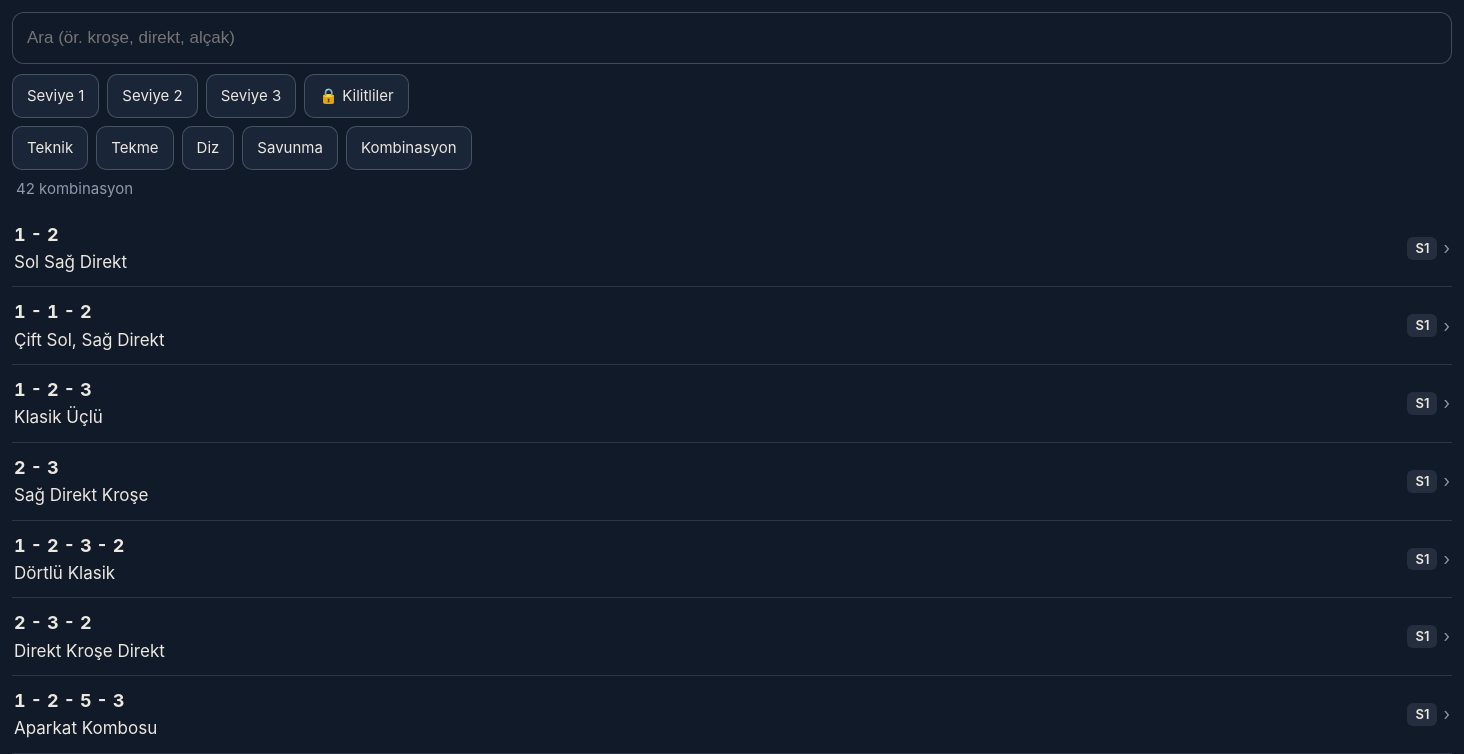
Test case: Kombo listesi ve detay › arama kutusu listeyi daraltır
Step 1. Type "teep" into the search field → (732, 38), box x1=12 y1=12 x2=1452 y2=64
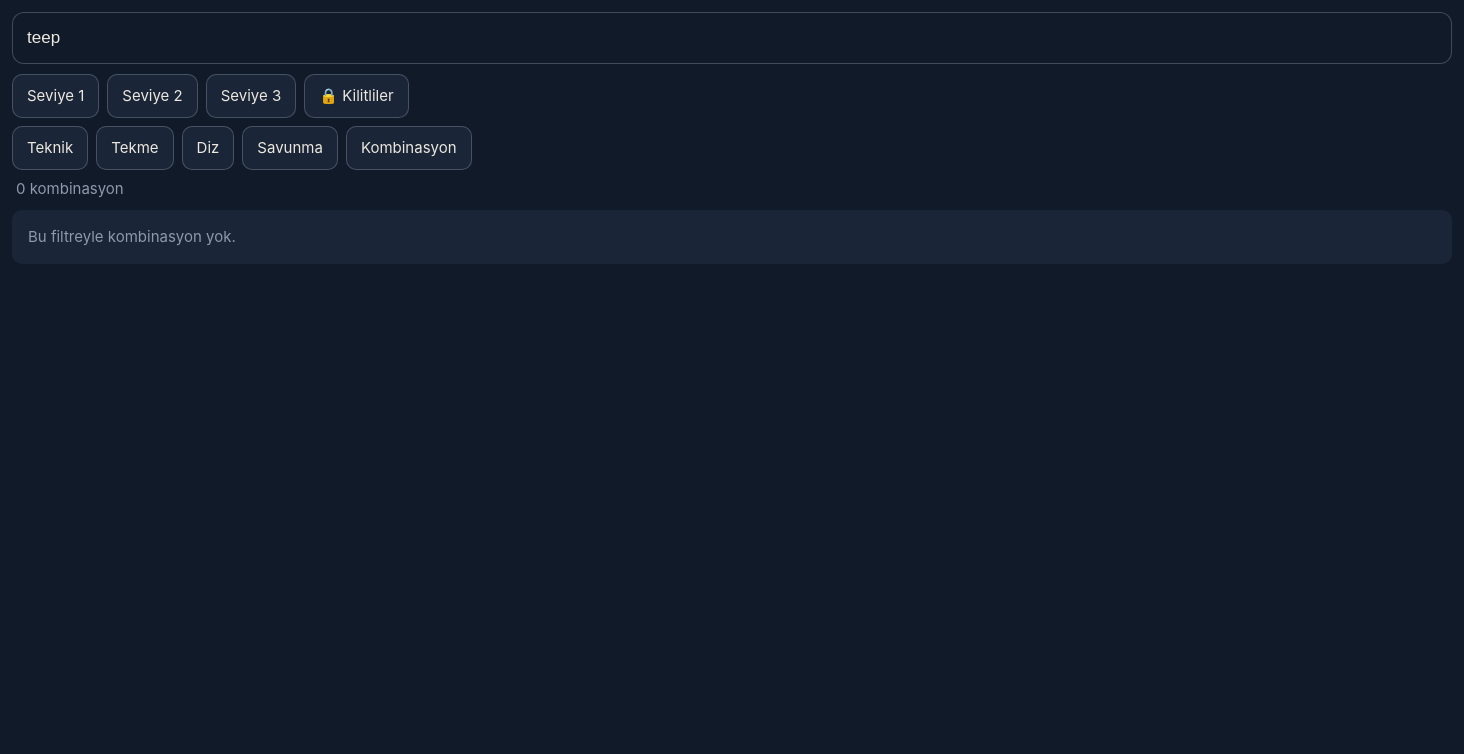
Now the text "kombinasyon" no longer shows "42 kombinasyon"
